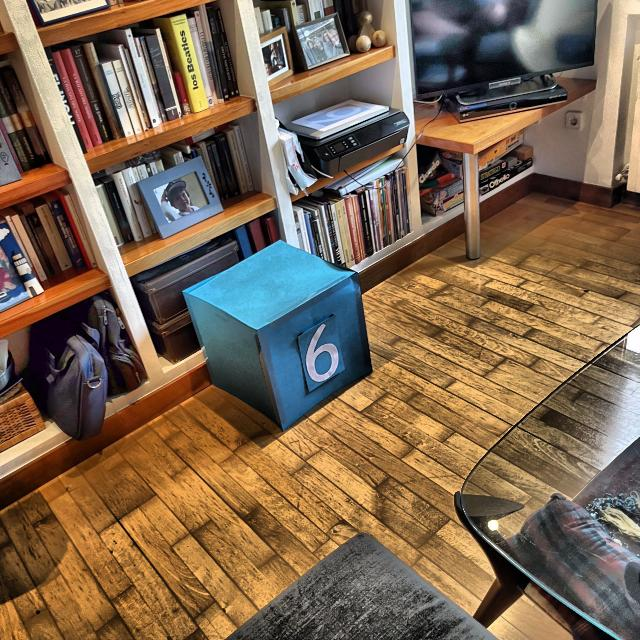blue box: (181, 242, 379, 432)
six: (305, 320, 343, 383)
